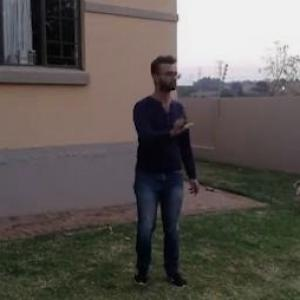land_hand: (167, 105, 197, 139)
